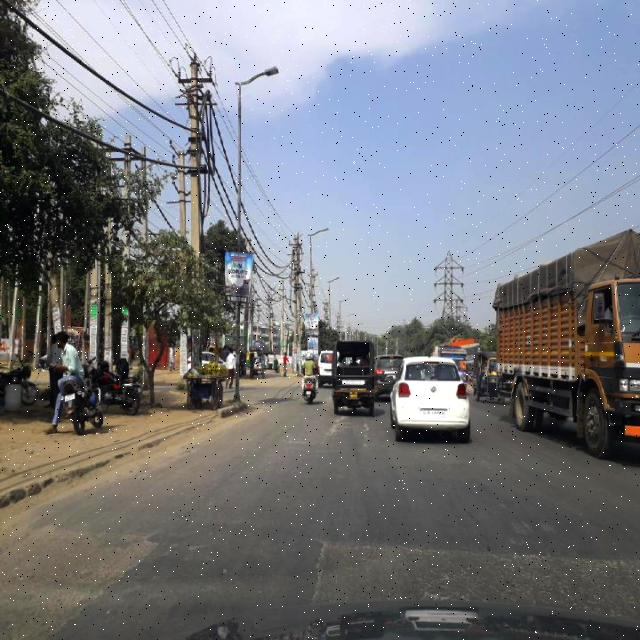D00: (308, 540, 326, 612)
D20: (376, 545, 629, 601)
